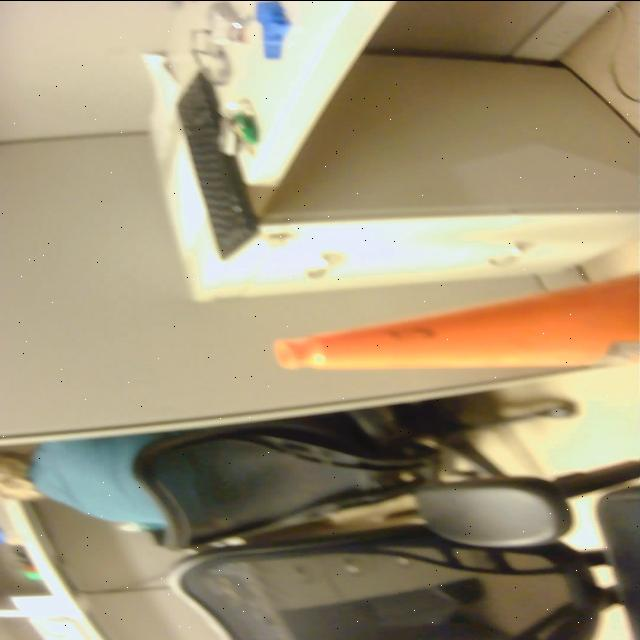traffic cone: (263, 257, 640, 380)
